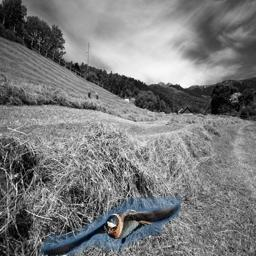Swallow: (41, 197, 181, 255)
